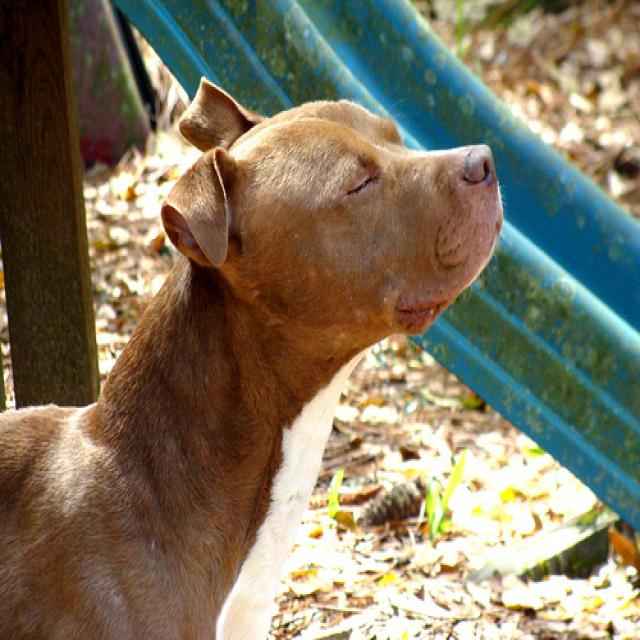dog-american_pit_bull_terrier: (1, 65, 509, 637)
